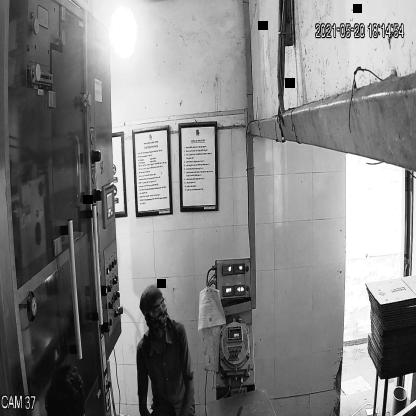goggles: (144, 296, 168, 318)
